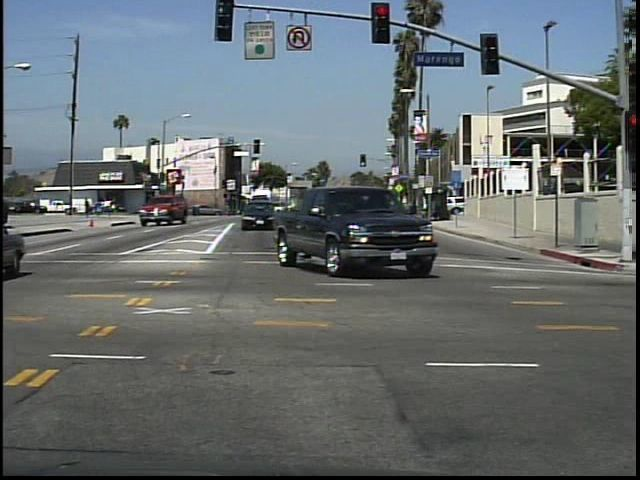person: (83, 196, 95, 221)
